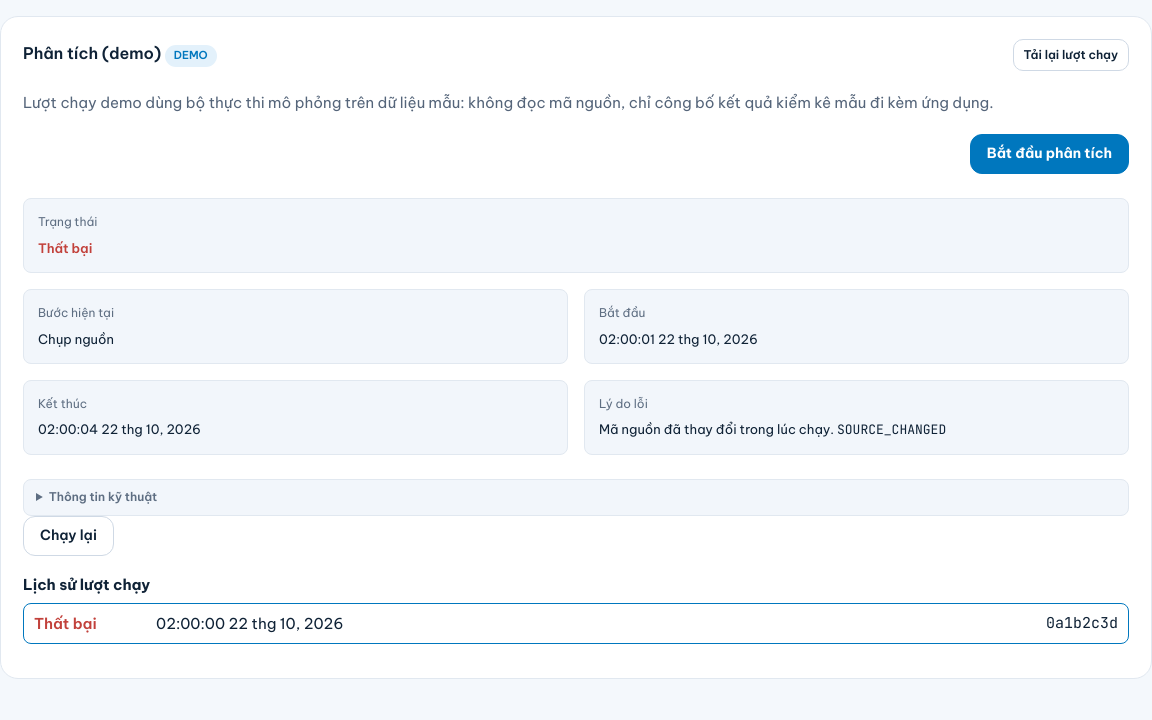
Test: Analyze run panel (F02) › retries a failed run as a new run with a new key and its retryOfRunId
This screenshot has width=1152, height=720.
Check: the text "Mã nguồn đã thay đổi trong lúc chạy." is shown, box [599,421,834,437]
Step 1. Click the button "Chạy lại" → x=68, y=536, box [23,516,114,556]
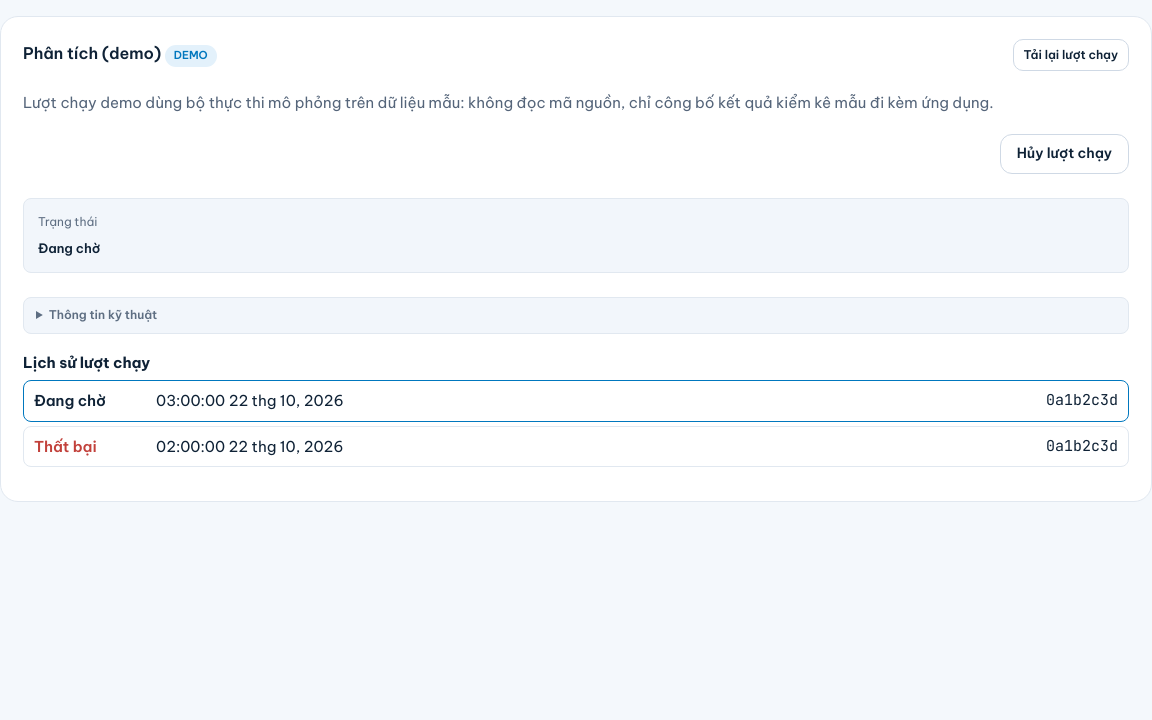
Check: the number of list items is 2, box [23,380,1129,422]; [23,426,1129,467]
